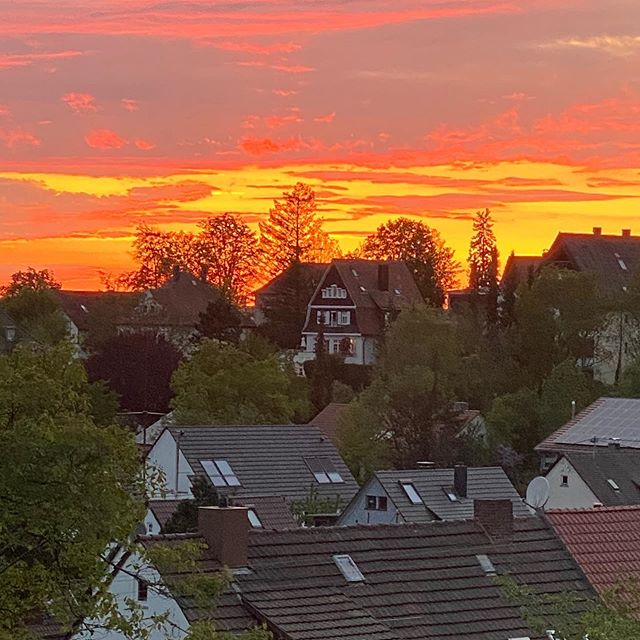building: (103, 510, 640, 640), (140, 409, 361, 531), (515, 232, 640, 385), (304, 255, 425, 387), (533, 380, 640, 516), (340, 461, 517, 535)
sky: (1, 1, 640, 259)
tree: (136, 215, 263, 303), (252, 179, 341, 282)
